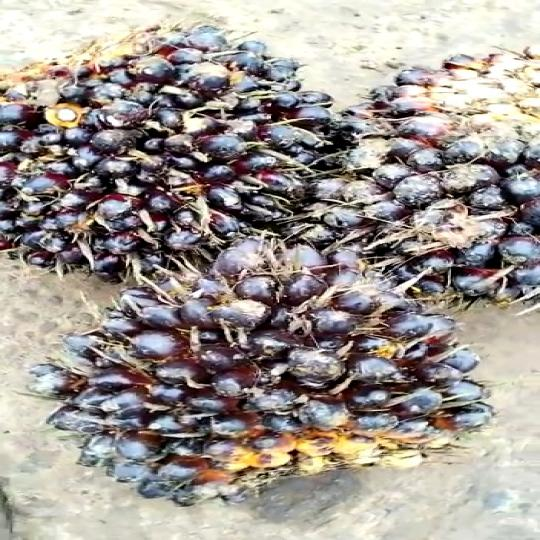mentah: (35, 252, 489, 516), (0, 22, 316, 286)
